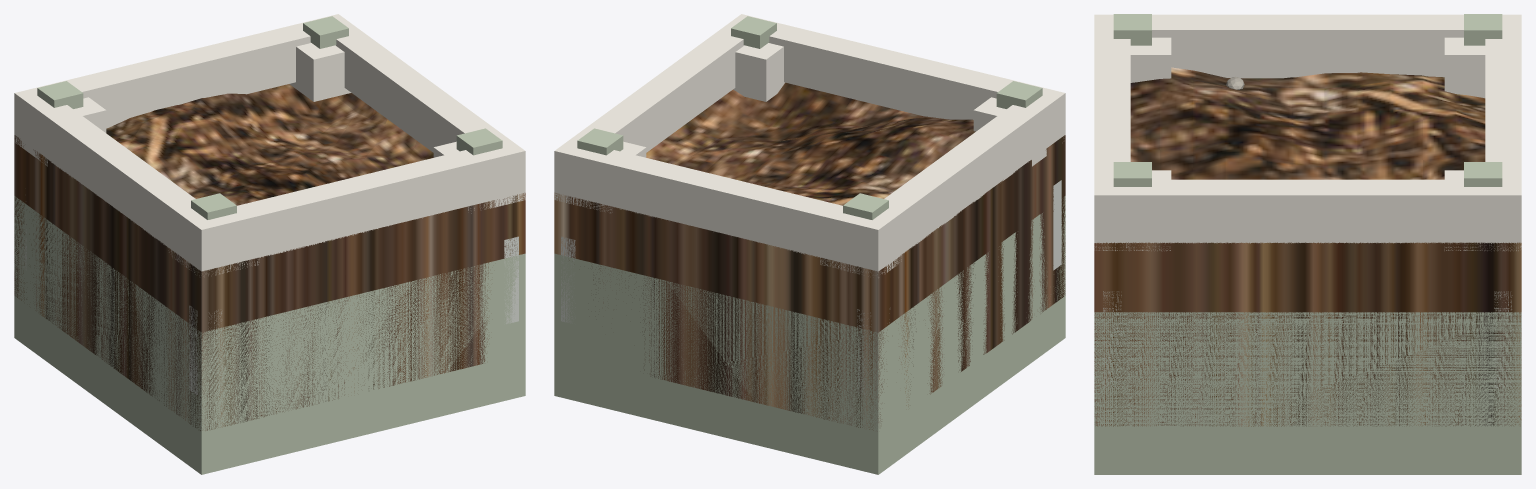
The model's file is s03-untreated-corner-nw.glb.
3 views of the same model, side by side, from view 1: azimuth 30°, elevation 25°; view 2: azimuth 150°, elevation 25°; view 3: azimuth 270°, elevation 25° (orthographic). The views are drawn at different scales.
Visible parts, largest first — view 1: S03_Physical_Untreated_Soil_Top_RealRelief, S03_Frame_Sage_Solid_Bottom, S03_Cream_Rim_N, S03_Cream_Rim_S, S03_Cream_Rim_W, S03_Cream_Rim_E, S03_Cream_Protective_Corner_1_0, S03_Cream_Protective_Corner_1_1, S03_Cream_Protective_Corner_0_0, S03_Cream_Protective_Corner_0_1, S03_Sage_Corner_Inset_1_0, S03_Sage_Corner_Inset_0_0 (+4 smaller); view 2: S03_Physical_Untreated_Soil_Top_RealRelief, S03_Frame_Sage_Solid_Bottom, S03_Cream_Rim_S, S03_Cream_Rim_N, S03_Cream_Rim_W, S03_Cream_Rim_E, S03_Cream_Protective_Corner_1_1, S03_Cream_Protective_Corner_1_0, S03_Cream_Protective_Corner_0_1, S03_Cream_Protective_Corner_0_0, S03_Sage_Corner_Inset_1_1, S03_Sage_Corner_Inset_0_1 (+4 smaller); view 3: S03_Physical_Untreated_Soil_Top_RealRelief, S03_Frame_Sage_Solid_Bottom, S03_Cream_Rim_E, S03_Cream_Rim_W, S03_Cream_Rim_N, S03_Cream_Rim_S, S03_Cream_Protective_Corner_0_0, S03_Cream_Protective_Corner_0_1, S03_Sage_Corner_Inset_0_0, S03_Sage_Corner_Inset_0_1, S03_Sage_Corner_Inset_1_0, S03_Sage_Corner_Inset_1_1 (+2 smaller).
Boxes of the visible parts, x1,y1,x2,y2 form: S03_Physical_Untreated_Soil_Top_RealRelief: [14, 84, 525, 430]; S03_Frame_Sage_Solid_Bottom: [14, 196, 525, 474]; S03_Cream_Rim_N: [185, 139, 525, 271]; S03_Cream_Rim_S: [14, 14, 353, 139]; S03_Cream_Rim_W: [14, 86, 228, 271]; S03_Cream_Rim_E: [334, 14, 525, 199]; S03_Cream_Protective_Corner_1_0: [290, 43, 351, 101]; S03_Cream_Protective_Corner_1_1: [433, 141, 525, 213]; S03_Cream_Protective_Corner_0_0: [14, 97, 106, 166]; S03_Cream_Protective_Corner_0_1: [168, 213, 259, 275]; S03_Sage_Corner_Inset_1_0: [303, 16, 348, 48]; S03_Sage_Corner_Inset_0_0: [37, 81, 83, 108]; S03_Physical_Untreated_Soil_Top_RealRelief: [554, 82, 1065, 431]; S03_Frame_Sage_Solid_Bottom: [554, 196, 1065, 474]; S03_Cream_Rim_S: [554, 139, 894, 271]; S03_Cream_Rim_N: [727, 14, 1065, 145]; S03_Cream_Rim_W: [851, 86, 1065, 270]; S03_Cream_Rim_E: [554, 14, 755, 198]; S03_Cream_Protective_Corner_1_1: [733, 43, 784, 101]; S03_Cream_Protective_Corner_1_0: [554, 141, 646, 213]; S03_Cream_Protective_Corner_0_1: [973, 97, 1065, 166]; S03_Cream_Protective_Corner_0_0: [820, 222, 901, 277]; S03_Sage_Corner_Inset_1_1: [731, 16, 776, 48]; S03_Sage_Corner_Inset_0_1: [996, 81, 1042, 108]; S03_Physical_Untreated_Soil_Top_RealRelief: [1094, 67, 1521, 426]; S03_Frame_Sage_Solid_Bottom: [1094, 312, 1521, 474]; S03_Cream_Rim_E: [1094, 179, 1521, 243]; S03_Cream_Rim_W: [1094, 14, 1521, 78]; S03_Cream_Rim_N: [1094, 14, 1130, 243]; S03_Cream_Rim_S: [1485, 14, 1521, 243]; S03_Cream_Protective_Corner_0_0: [1444, 37, 1485, 98]; S03_Cream_Protective_Corner_0_1: [1130, 37, 1171, 82]; S03_Sage_Corner_Inset_0_0: [1464, 14, 1502, 45]; S03_Sage_Corner_Inset_0_1: [1113, 14, 1151, 45]; S03_Sage_Corner_Inset_1_0: [1464, 162, 1502, 186]; S03_Sage_Corner_Inset_1_1: [1113, 162, 1151, 186].
Size of the model in its own units: 0.2 by 0.149 by 0.2.
6 materials, 1 textured.
